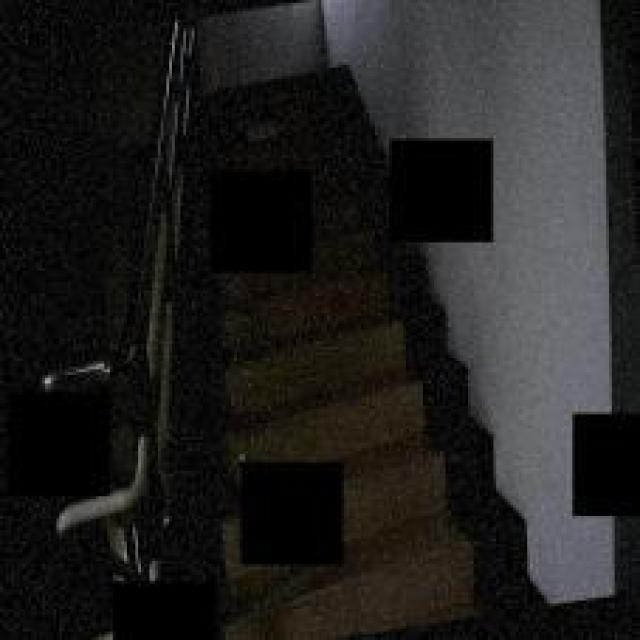upstair: (213, 280, 430, 441)
